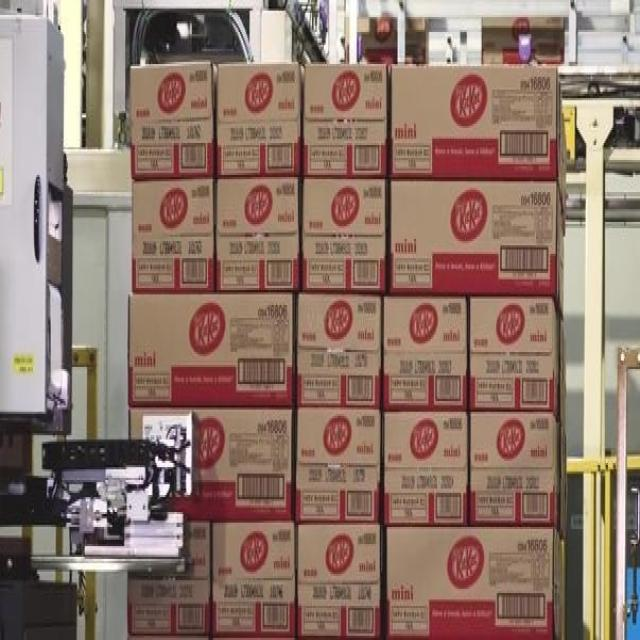box: (391, 64, 567, 230), (388, 181, 565, 320), (386, 527, 564, 640), (127, 292, 295, 407), (128, 407, 293, 521), (469, 299, 561, 422), (470, 412, 559, 535), (129, 62, 217, 181), (210, 523, 296, 640), (127, 523, 212, 640), (302, 64, 390, 177), (383, 294, 468, 410), (301, 179, 387, 292), (297, 523, 380, 640), (217, 62, 301, 177), (295, 294, 382, 405), (295, 410, 382, 521), (214, 179, 299, 290), (383, 412, 468, 523), (132, 179, 213, 294)
